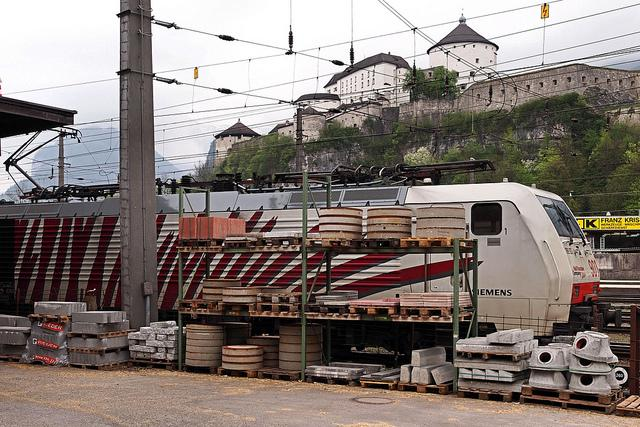Train: (2, 183, 605, 368)
